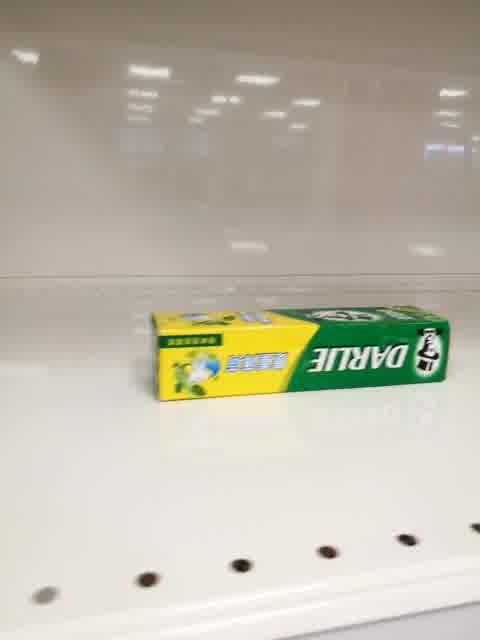toothpaste: (152, 305, 450, 401)
